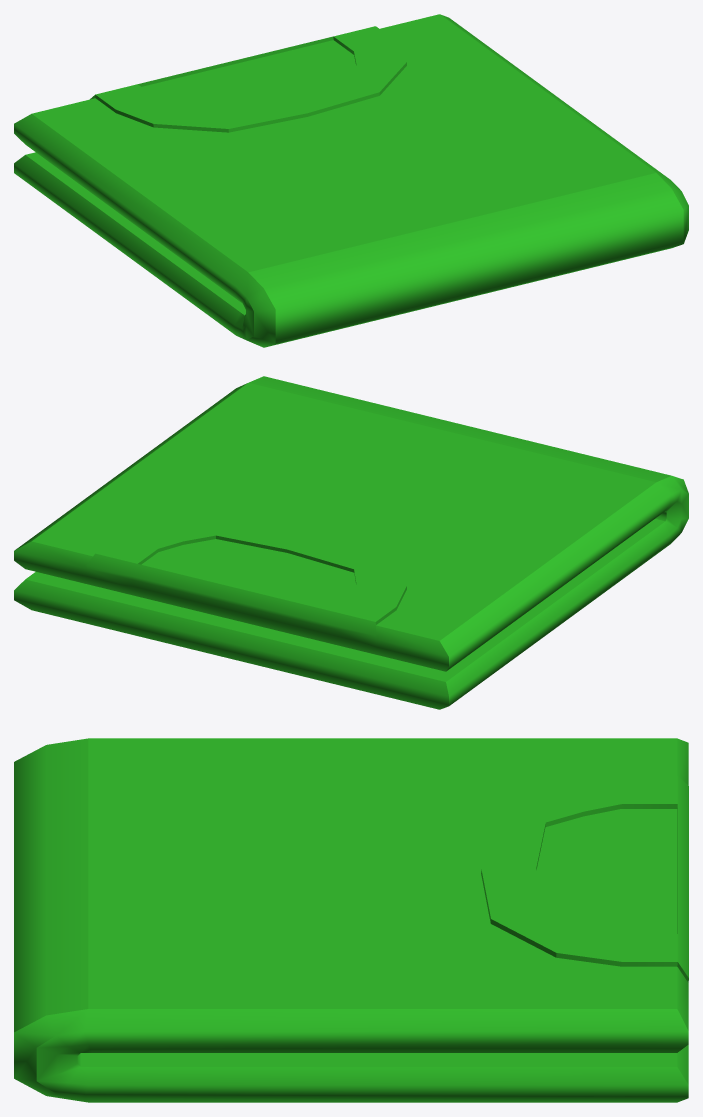
The model's file is MDL_CLGR_folded.fbx.
The picture shows the model from 3 angles, top to bottom: view 1: azimuth 30°, elevation 25°; view 2: azimuth 150°, elevation 25°; view 3: azimuth 270°, elevation 25°; orthographic projection. The views are drawn at different scales.
Parts seen in each view (by area): view 1: MDL_CL_fold.003; view 2: MDL_CL_fold.003; view 3: MDL_CL_fold.003.
Boxes of the visible parts, bbox=[...] form: MDL_CL_fold.003: bbox=[14, 14, 688, 347]; MDL_CL_fold.003: bbox=[14, 376, 688, 709]; MDL_CL_fold.003: bbox=[14, 738, 688, 1102].
Size of the model in its own units: 78.18 by 12.43 by 77.31.
